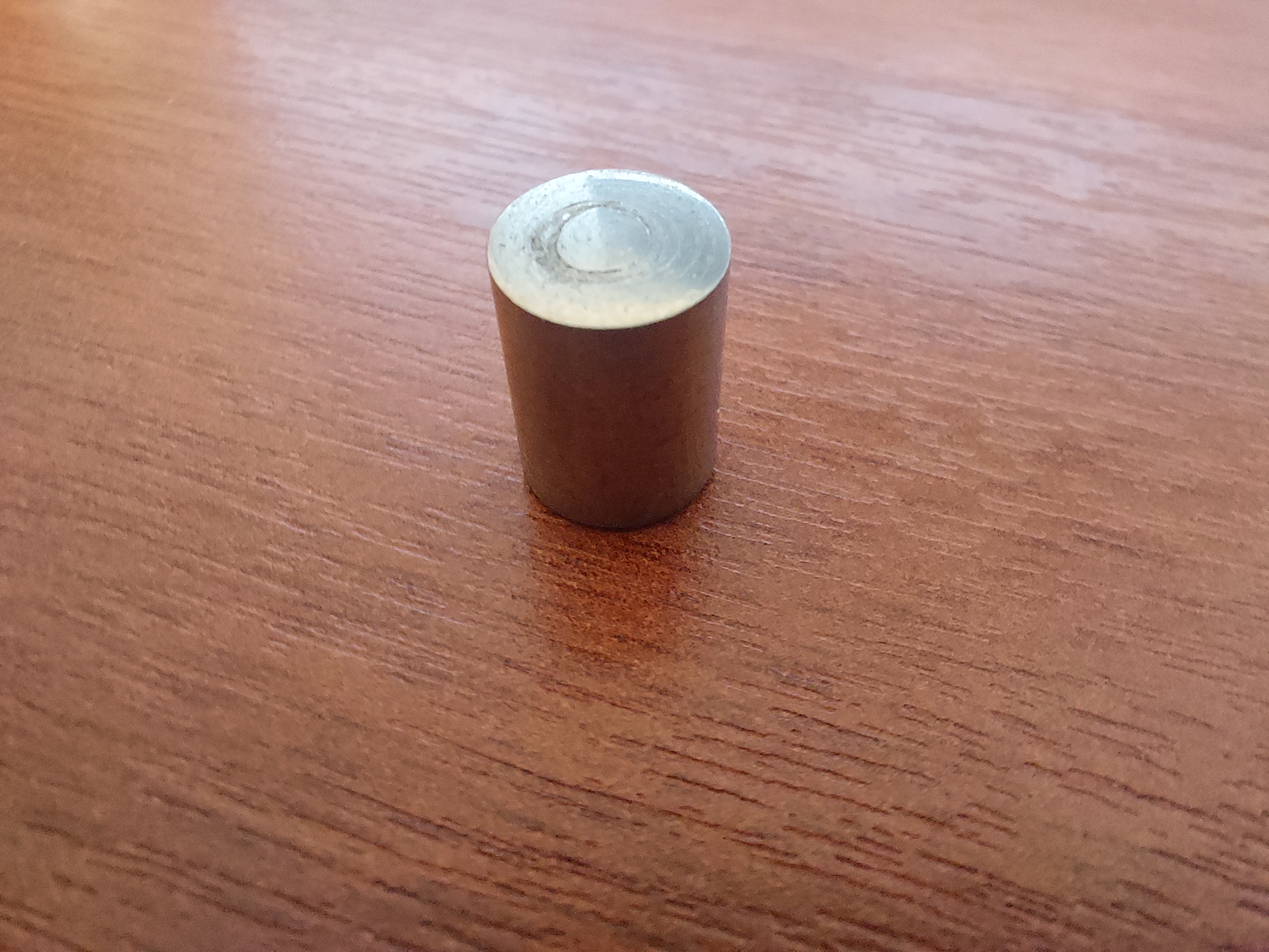tablet: (472, 162, 765, 543)
